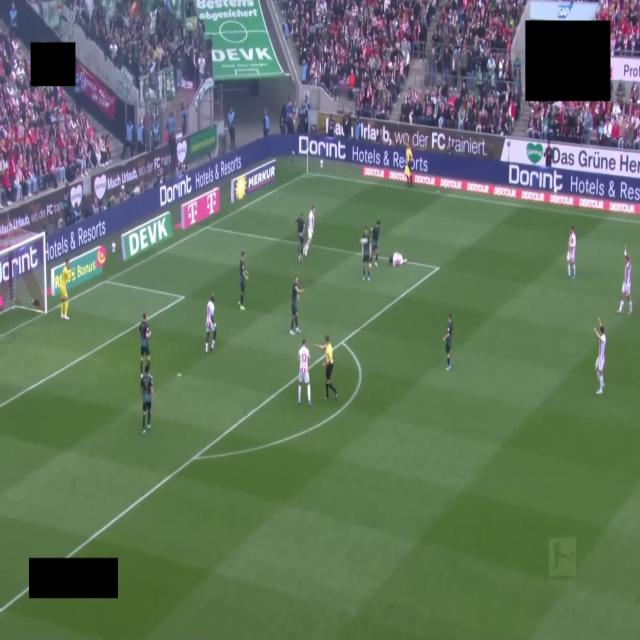player: (617, 246, 632, 314), (298, 340, 311, 406), (141, 365, 153, 434), (290, 276, 304, 335), (595, 319, 606, 394), (139, 312, 151, 377), (60, 261, 71, 319), (239, 251, 249, 311), (443, 313, 453, 370), (206, 295, 216, 352), (304, 207, 315, 255), (361, 228, 371, 280), (294, 214, 305, 261), (567, 226, 576, 278), (372, 221, 380, 266), (389, 253, 407, 266)
referee: (314, 336, 337, 399)
